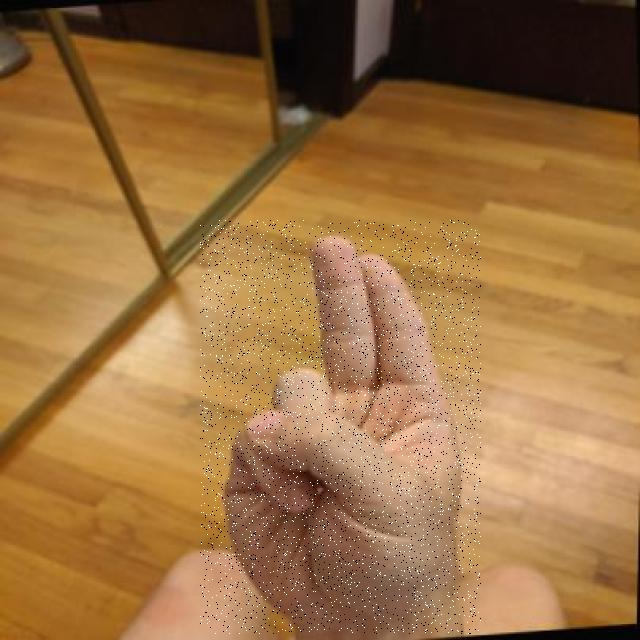U: (200, 220, 481, 634)
